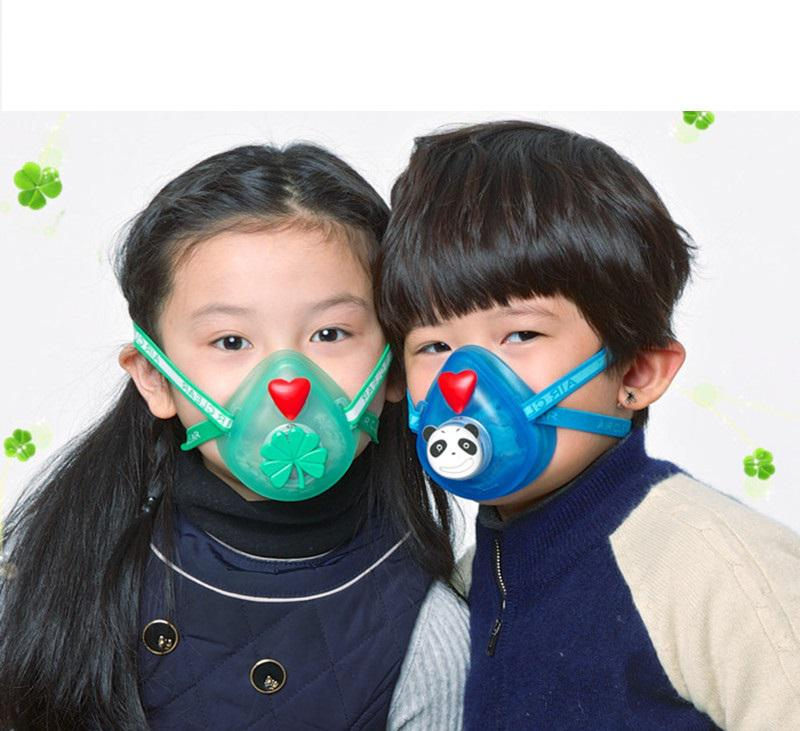OK: (398, 291, 613, 506), (172, 287, 375, 490)
